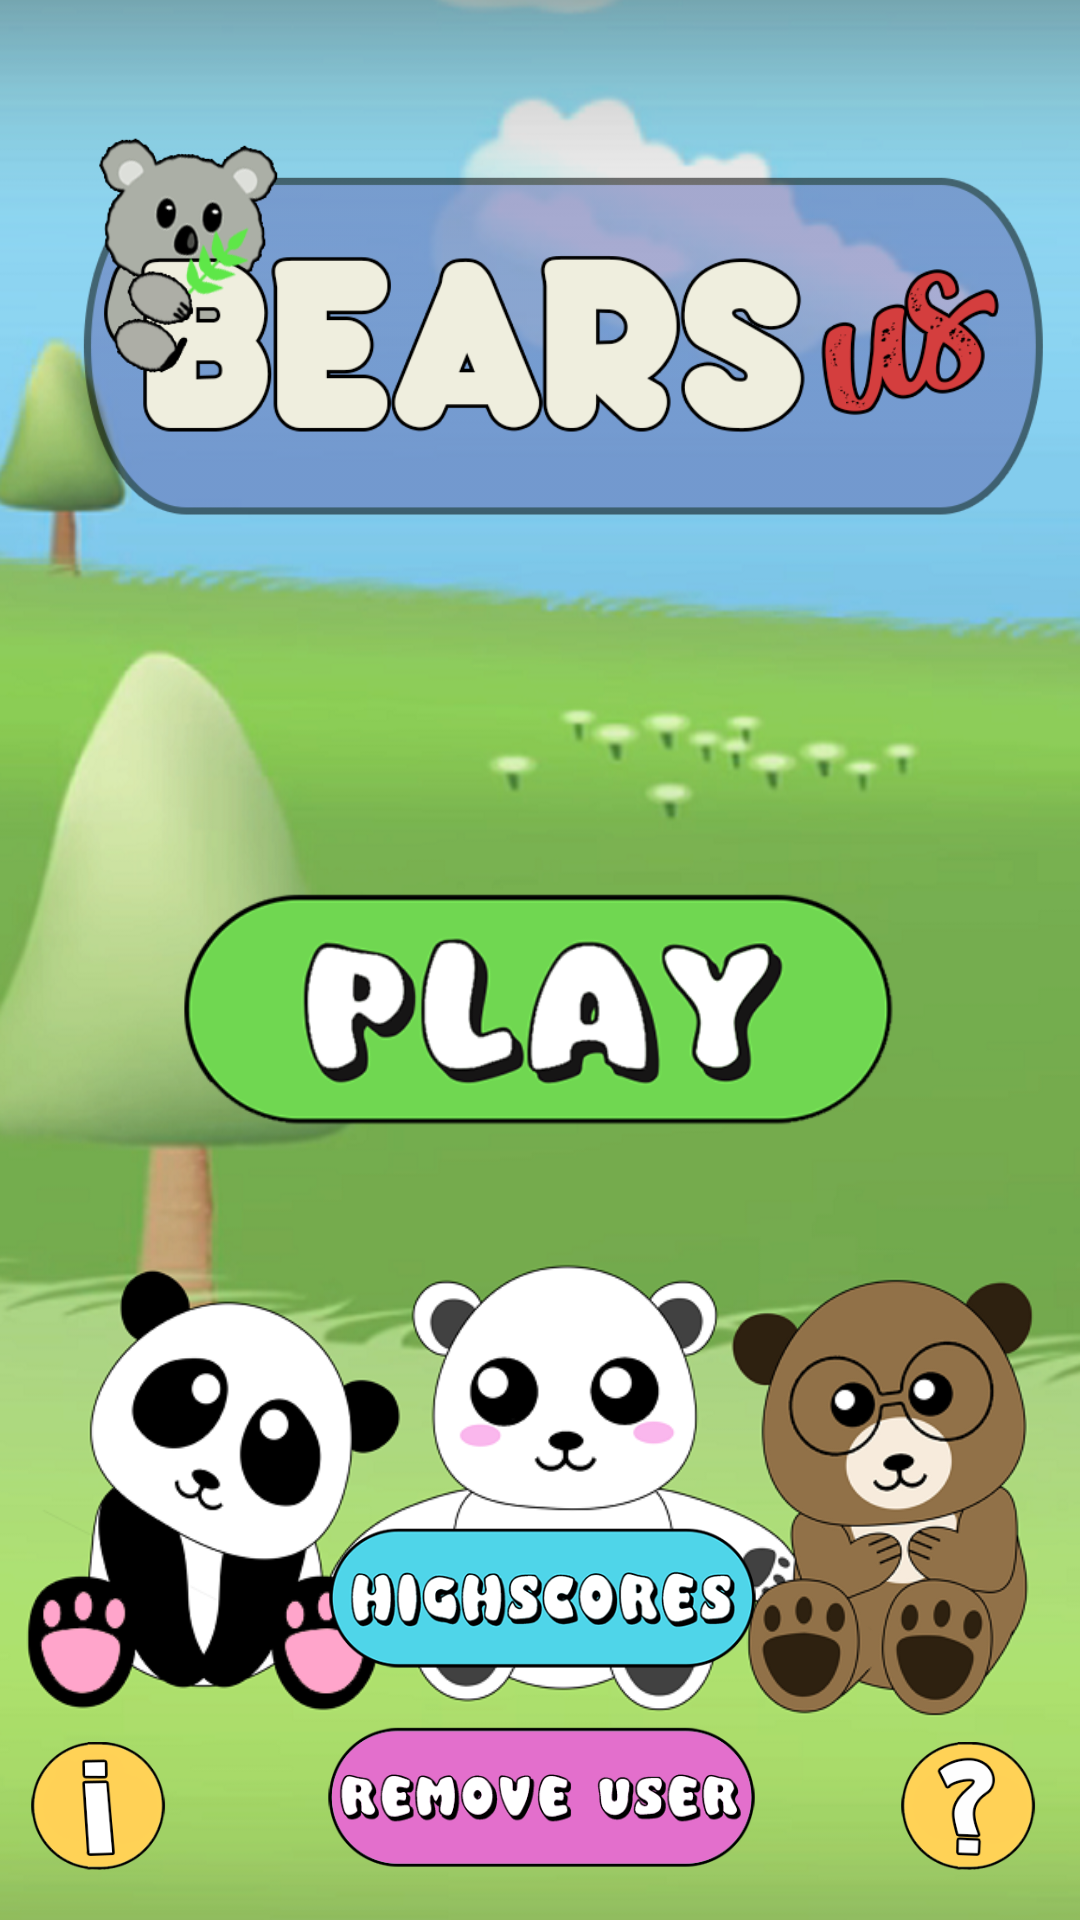

Icons on this 1080×1920 Android screen, each with its box as (x1, y1, x2, y2):
info: (31, 1742, 165, 1870)
qmark: (901, 1742, 1035, 1870)
